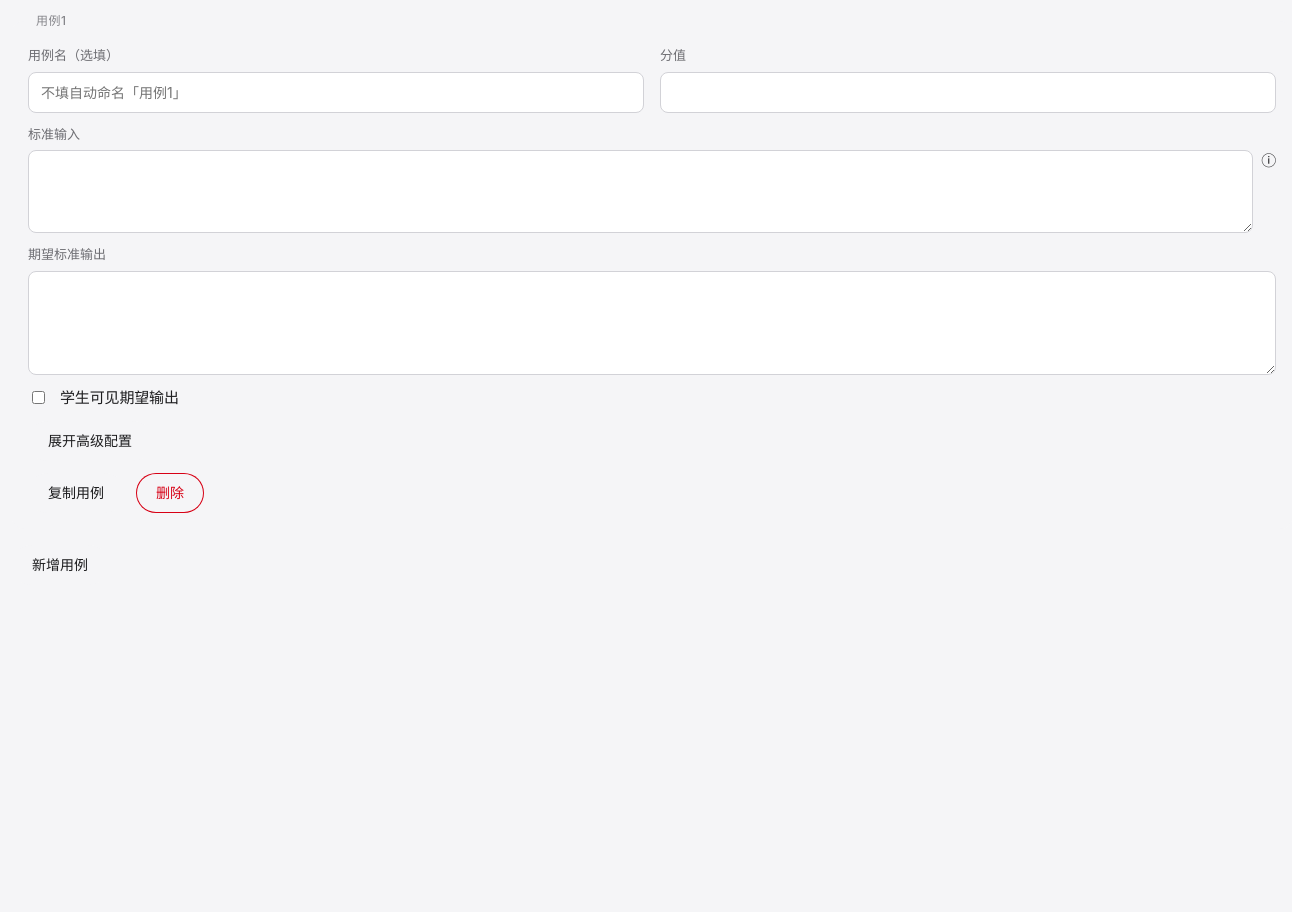
高级配置折叠 › 默认收起，点一次展开（命令行参数 / 期望标准错误 / 退出码），再点收起
Click the button with test id "case-advanced-0" at (90, 441), box [28,421,152,461]
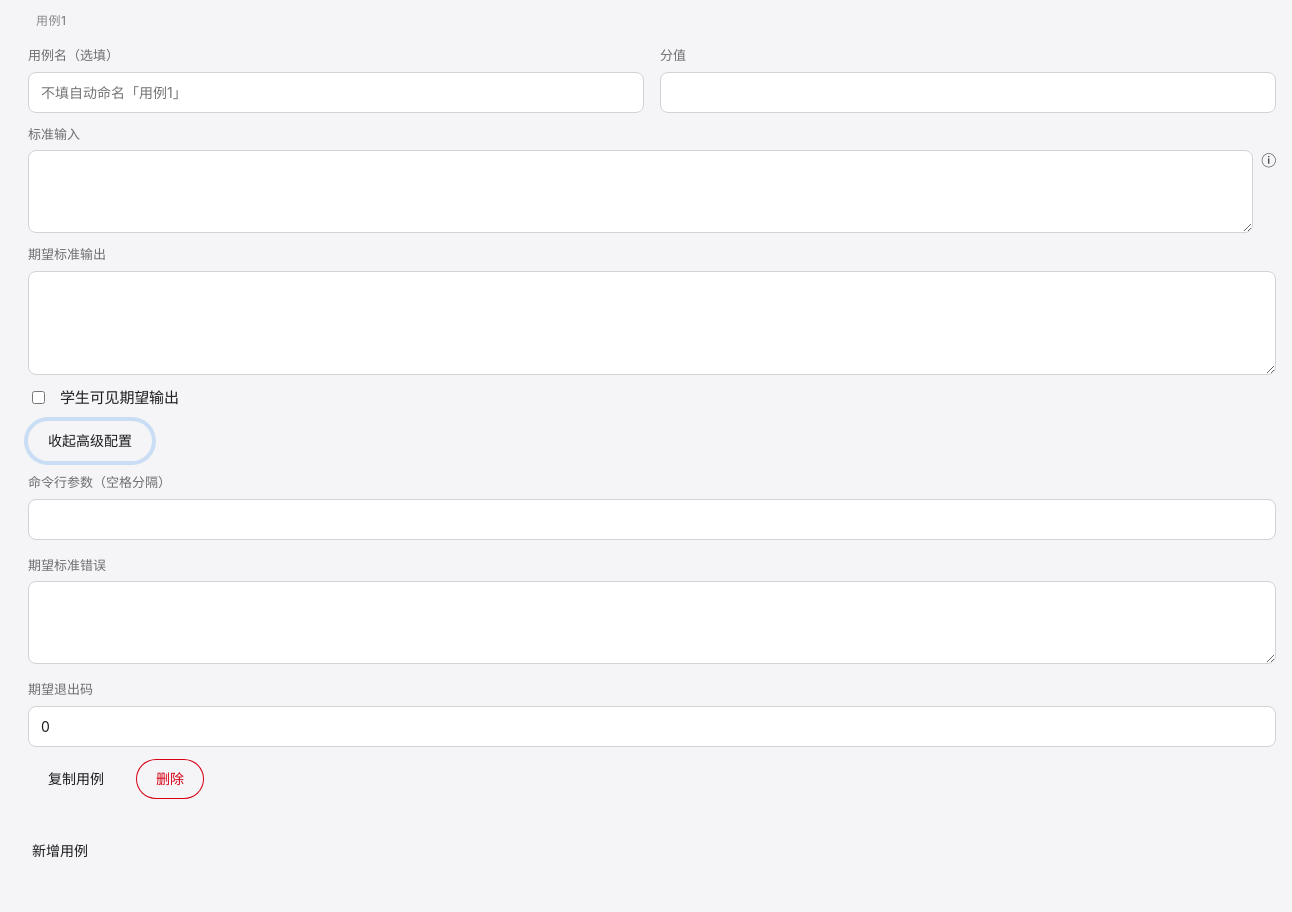
Expected: the element with test id "case-advanced-fields-0" is shown, [28,473,1276,746]
Expected: the field labelled "命令行参数（空格分隔）" is shown, [28,498,1276,540]
Expected: the text box labelled "期望标准错误" is shown, [28,581,1276,664]
Click the button with test id "case-advanced-0" at (90, 441), box [28,421,152,461]
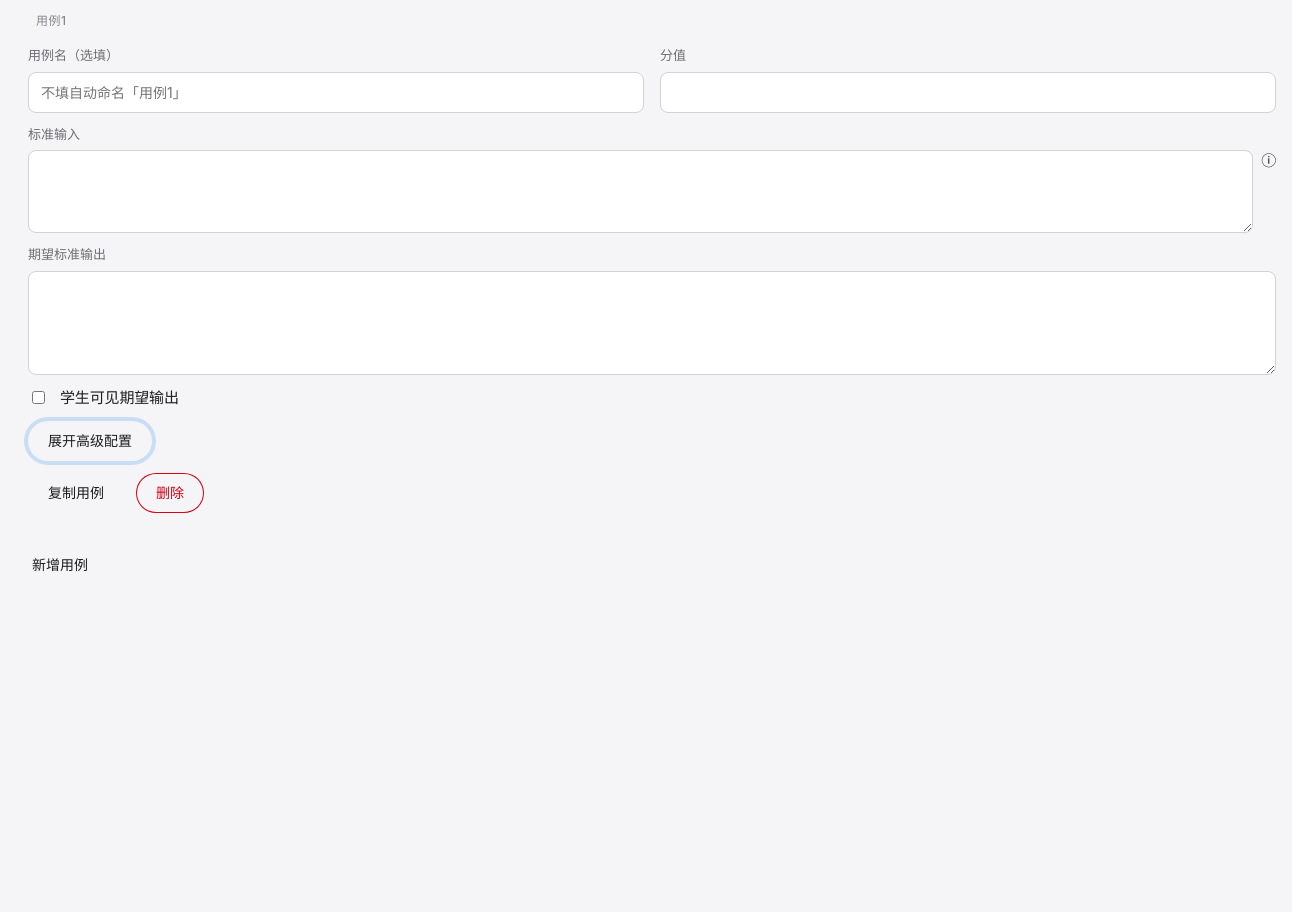
Expected: the element with test id "case-advanced-fields-0" is gone
